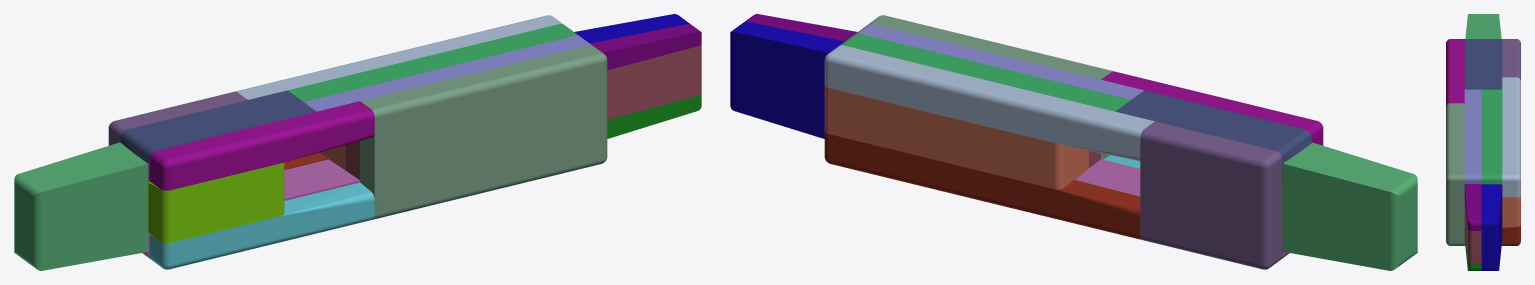
Rendered from 3_canonical.obj.
The picture shows the model from 3 angles, left to right: view 1: azimuth 30°, elevation 25°; view 2: azimuth 150°, elevation 25°; view 3: azimuth 270°, elevation 25°; orthographic projection. The views are drawn at different scales.
Parts seen in each view (by area): view 1: geometry_0, geometry_3, geometry_14, geometry_4, geometry_2, geometry_16, geometry_13, geometry_10, geometry_6, geometry_12, geometry_11, geometry_7 (+3 smaller); view 2: geometry_1, geometry_6, geometry_3, geometry_9, geometry_15, geometry_5, geometry_16, geometry_10, geometry_12, geometry_0, geometry_14, geometry_7 (+1 smaller); view 3: geometry_0, geometry_6, geometry_10, geometry_16, geometry_5, geometry_12, geometry_14, geometry_3, geometry_11, geometry_1, geometry_13, geometry_9 (+2 smaller).
Part boxes in pixels (box(x1,y1,x2,y2)): geometry_0: box(360, 45, 607, 219); geometry_3: box(14, 142, 148, 270); geometry_14: box(149, 101, 374, 190); geometry_4: box(148, 162, 284, 243); geometry_2: box(149, 182, 374, 269); geometry_16: box(120, 90, 316, 181); geometry_13: box(346, 44, 701, 179); geometry_10: box(288, 24, 578, 101); geometry_6: box(236, 15, 562, 99); geometry_12: box(304, 35, 591, 111); geometry_11: box(590, 24, 701, 70); geometry_7: box(142, 159, 359, 258); geometry_1: box(1140, 121, 1282, 269); geometry_6: box(824, 45, 1154, 161); geometry_3: box(1282, 142, 1417, 270); geometry_9: box(824, 86, 1088, 189); geometry_15: box(824, 132, 1141, 239); geometry_5: box(730, 21, 844, 138); geometry_16: box(1115, 90, 1312, 183); geometry_10: box(840, 33, 1130, 111); geometry_12: box(856, 24, 1143, 99); geometry_0: box(869, 15, 1112, 159); geometry_14: box(1101, 71, 1323, 145); geometry_7: box(1075, 159, 1289, 258); geometry_0: box(1446, 103, 1464, 245); geometry_6: box(1502, 77, 1520, 197); geometry_10: box(1481, 89, 1502, 184); geometry_16: box(1464, 39, 1502, 89); geometry_5: box(1481, 184, 1502, 270); geometry_12: box(1464, 89, 1481, 183); geometry_14: box(1446, 39, 1464, 106); geometry_3: box(1465, 14, 1501, 38); geometry_11: box(1464, 184, 1481, 230); geometry_1: box(1502, 39, 1520, 80); geometry_13: box(1464, 197, 1481, 262); geometry_9: box(1502, 196, 1520, 227).
Bounding box in the file's own units: 0.0762 × 0.012 × 0.0115.
